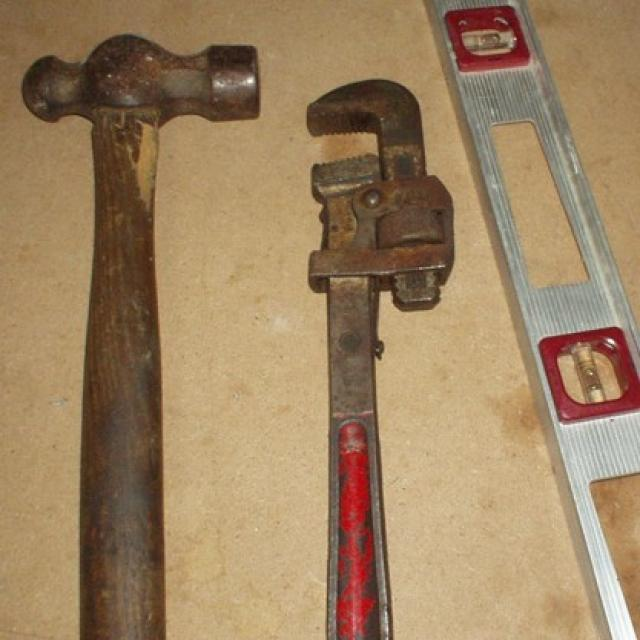hammer: (0, 12, 279, 639)
